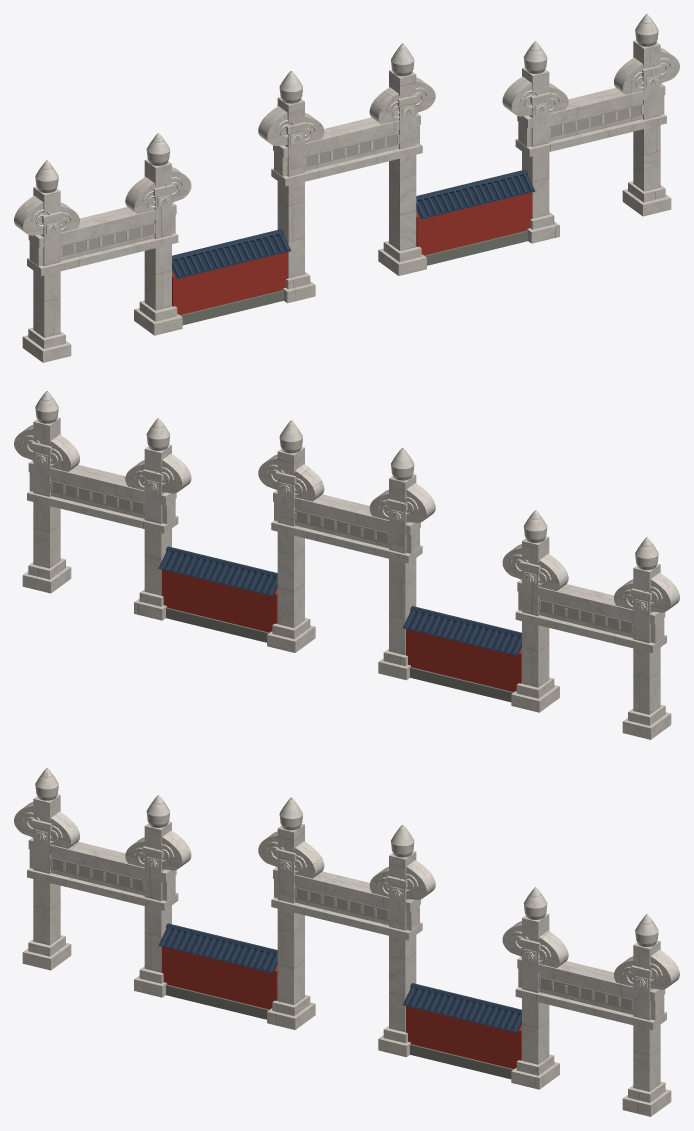
File: mound-inner-gate-detail.glb
The picture shows the model from 3 angles, top to bottom: view 1: azimuth 30°, elevation 25°; view 2: azimuth 150°, elevation 25°; view 3: azimuth 330°, elevation 25°; orthographic projection.
Visible parts, largest first — view 1: mound-inner-gate stone.001, mound-inner-gate red.001, mound-inner-gate blueTile.001, mound-inner-gate recess.001, mound-inner-gate relief.001, mound-inner-gate blueRoof.001, mound-inner-gate base.001; view 2: mound-inner-gate stone.001, mound-inner-gate red.001, mound-inner-gate blueTile.001, mound-inner-gate recess.001, mound-inner-gate relief.001, mound-inner-gate blueRoof.001, mound-inner-gate base.001; view 3: mound-inner-gate stone.001, mound-inner-gate red.001, mound-inner-gate blueTile.001, mound-inner-gate recess.001, mound-inner-gate relief.001, mound-inner-gate blueRoof.001, mound-inner-gate base.001.
Part boxes in pixels (x1,y1,x2,y2): mound-inner-gate stone.001: (14,14,679,362); mound-inner-gate red.001: (172,192,532,314); mound-inner-gate blueTile.001: (172,169,533,277); mound-inner-gate recess.001: (60,103,643,256); mound-inner-gate relief.001: (31,58,672,255); mound-inner-gate blueRoof.001: (172,174,535,278); mound-inner-gate base.001: (180,230,527,325); mound-inner-gate stone.001: (14,391,679,739); mound-inner-gate red.001: (161,569,521,691); mound-inner-gate blueTile.001: (160,546,521,654); mound-inner-gate recess.001: (50,480,633,633); mound-inner-gate relief.001: (21,435,662,632); mound-inner-gate blueRoof.001: (158,551,521,655); mound-inner-gate base.001: (166,607,513,702); mound-inner-gate stone.001: (14,768,679,1116); mound-inner-gate red.001: (161,946,521,1068); mound-inner-gate blueTile.001: (160,923,521,1031); mound-inner-gate recess.001: (50,857,633,1010); mound-inner-gate relief.001: (21,812,662,1009); mound-inner-gate blueRoof.001: (158,928,521,1032); mound-inner-gate base.001: (166,984,513,1079).
Size of the model in its own units: 0.1675 by 0.0539 by 0.009.
Materials: 7 (1 with a texture image).
